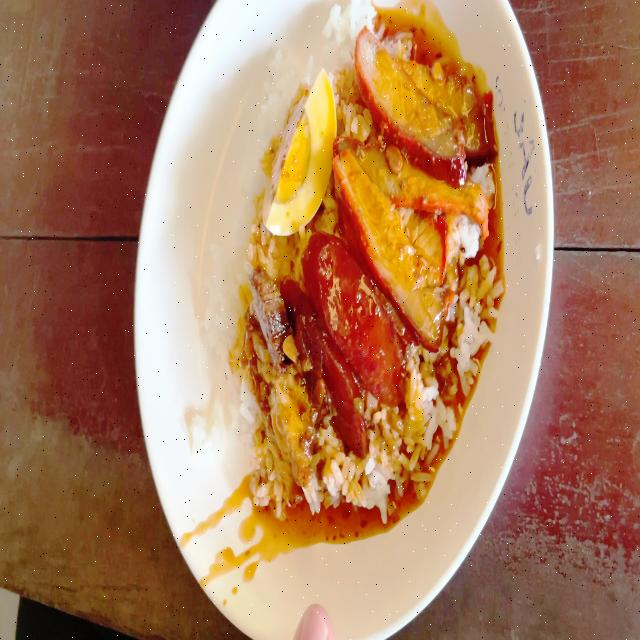boiled_egg: (263, 70, 335, 230)
chainese_sausage: (295, 239, 394, 446)
crispy_pork: (253, 278, 310, 477)
red_pork: (340, 33, 480, 311)
red_pork_and_crispy_pork: (225, 12, 491, 510)
rice: (406, 353, 468, 481), (311, 444, 389, 514)
